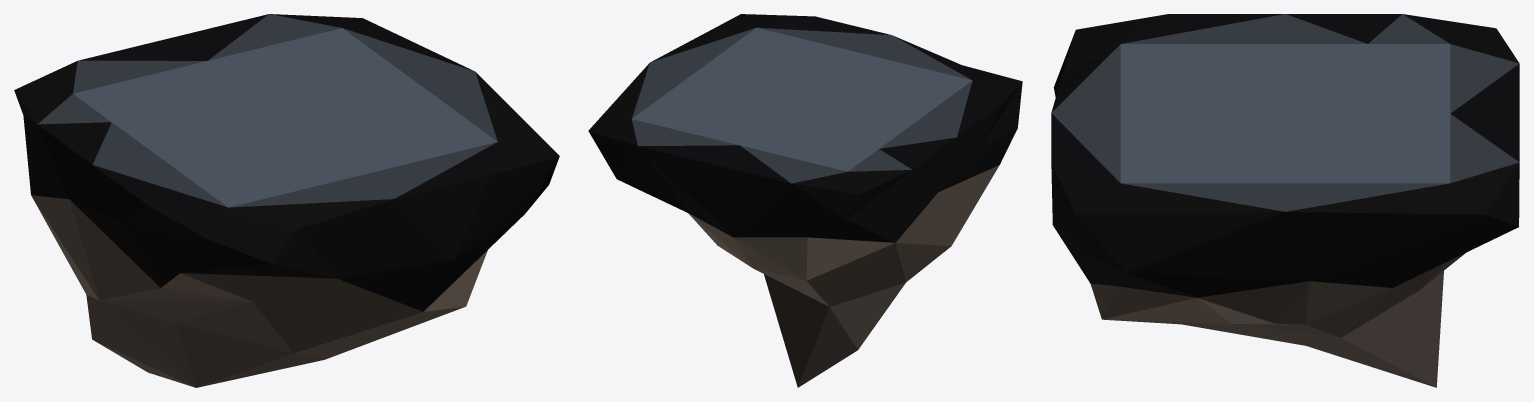
The model's file is haunted mini island.fbx.
3 views of the same model, side by side, from view 1: azimuth 30°, elevation 25°; view 2: azimuth 150°, elevation 25°; view 3: azimuth 270°, elevation 25° (orthographic). The views are drawn at different scales.
Parts seen in each view (by area): view 1: Cube; view 2: Cube; view 3: Cube.
Boxes of the visible parts, x1,y1,x2,y2 form: Cube: (14,14,559,387); Cube: (588,14,1022,387); Cube: (1051,14,1519,387).
Bounding box in the file's own units: 1000 × 727 × 1000.
